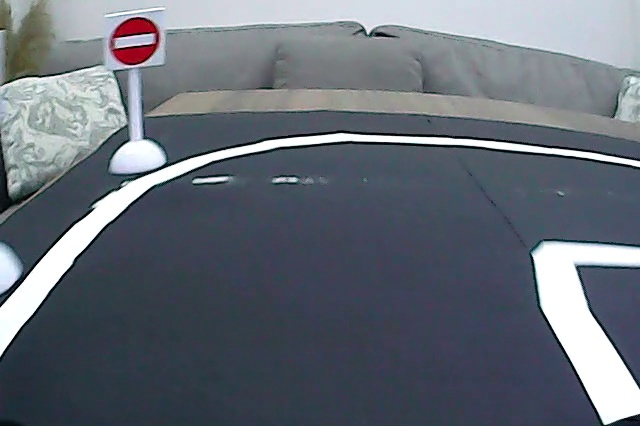do not enter: (107, 15, 162, 67)
